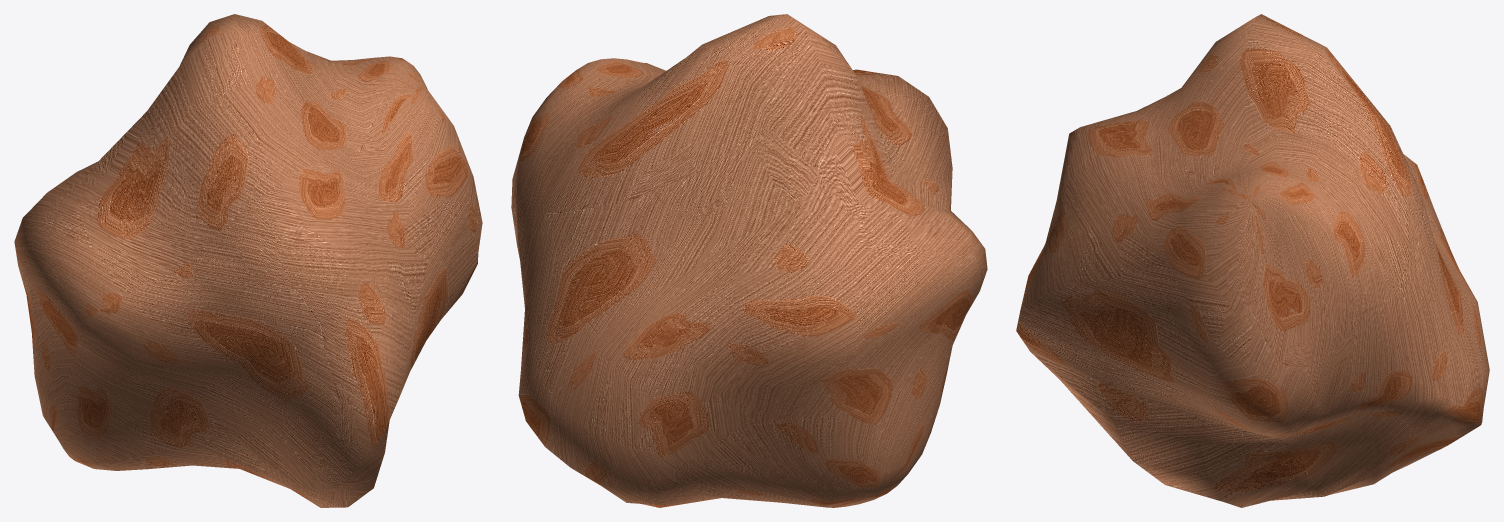
File: meteo_02.obj
3 views of the same model, side by side, from view 1: azimuth 30°, elevation 25°; view 2: azimuth 150°, elevation 25°; view 3: azimuth 270°, elevation 25° (orthographic). The views are drawn at different scales.
Parts seen in each view (by area): view 1: pSphere1; view 2: pSphere1; view 3: pSphere1.
Boxes of the visible parts, bbox=[...] form: pSphere1: bbox=[14, 14, 482, 507]; pSphere1: bbox=[511, 14, 987, 507]; pSphere1: bbox=[1016, 14, 1489, 507].
Size of the model in its own units: 2.42 by 2.52 by 2.45.
1 material, 1 textured.
